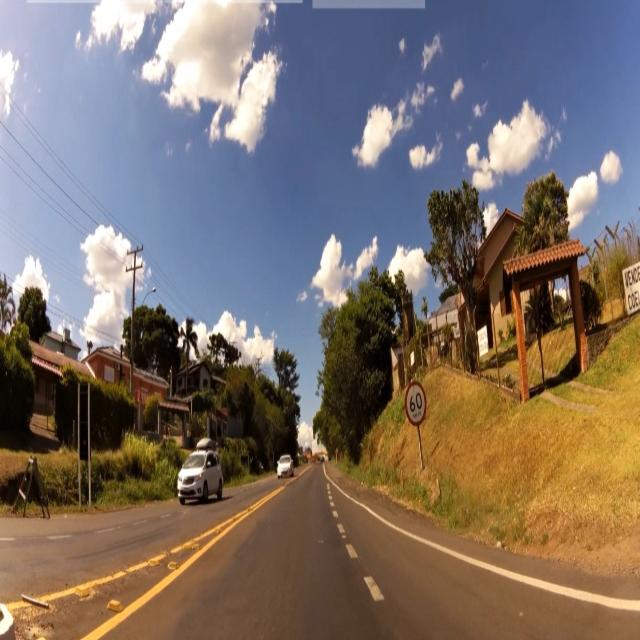R-19: (404, 379, 427, 424)
